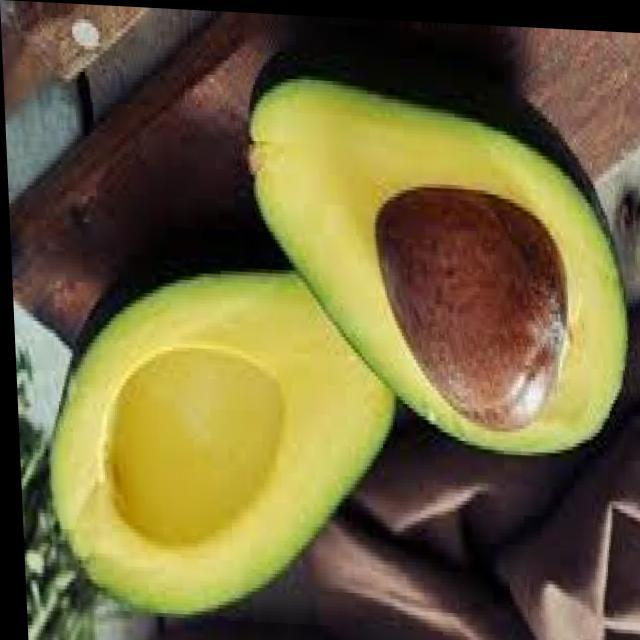Bo: (228, 29, 638, 472), (32, 225, 394, 629)
